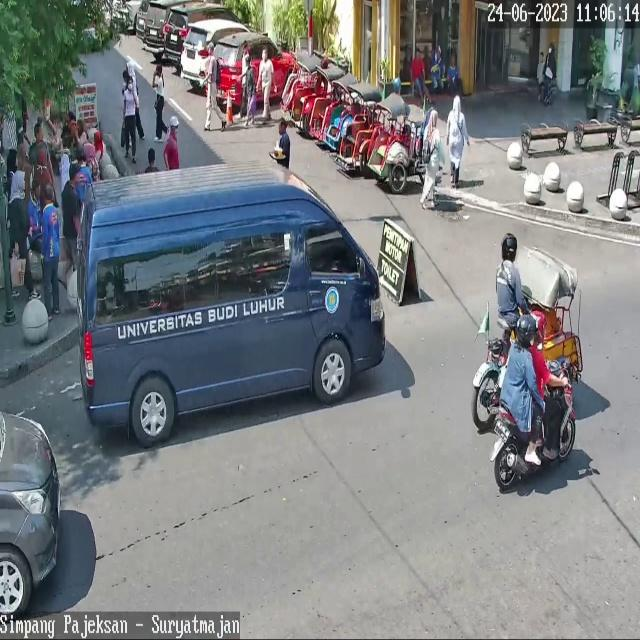bus: (489, 357, 577, 489)
car: (78, 161, 386, 446)
motorcycle: (0, 409, 60, 620), (206, 33, 300, 107), (163, 4, 246, 64), (181, 21, 252, 87), (143, 0, 169, 53)
